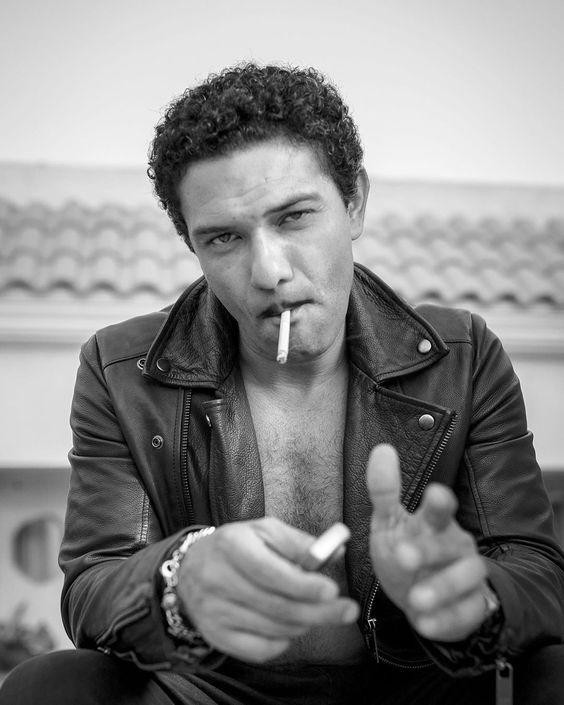cigarette: (276, 310, 290, 366)
